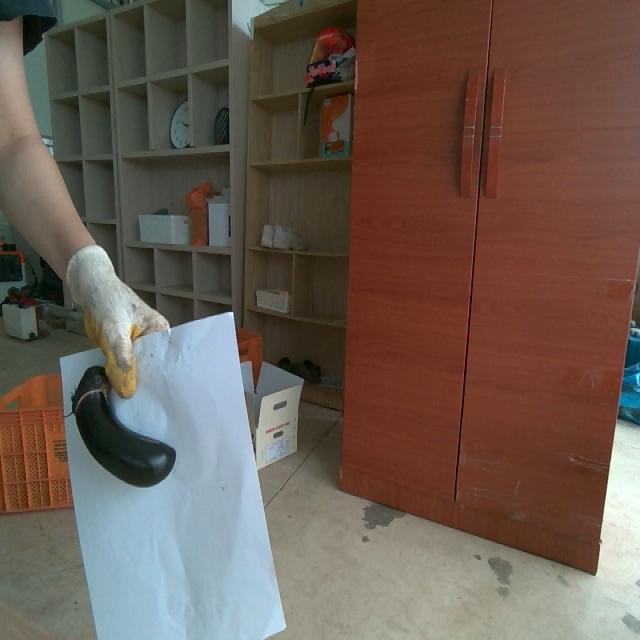Egg plant: (75, 387, 176, 485), (79, 367, 100, 389)
